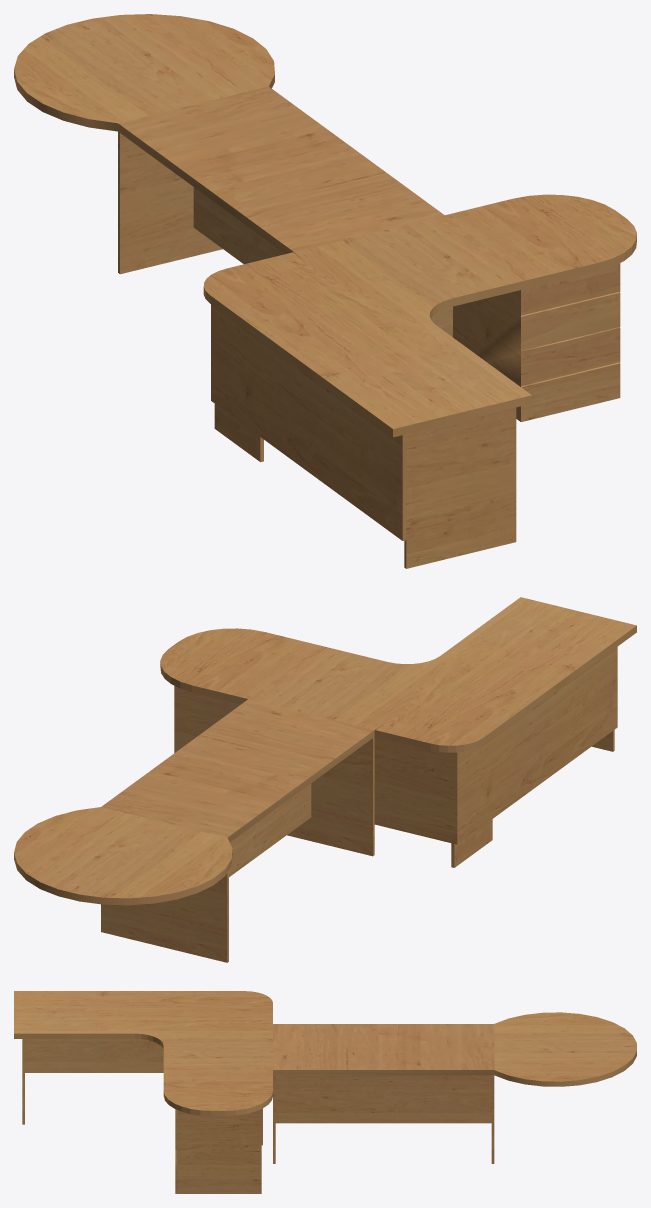
Rendered from stoll_m4.fbx.
3 renders of one model, top to bottom at view 1: azimuth 30°, elevation 25°; view 2: azimuth 150°, elevation 25°; view 3: azimuth 270°, elevation 25°, orthographic. The views are drawn at different scales.
Parts seen in each view (by area): view 1: stoll_m4; view 2: stoll_m4; view 3: stoll_m4.
Boxes of the visible parts, x1,y1,x2,y2 form: stoll_m4: (14, 14, 636, 568); stoll_m4: (14, 597, 636, 962); stoll_m4: (14, 991, 636, 1193).
Size of the model in its own units: 1.32 by 0.4828 by 2.9.
